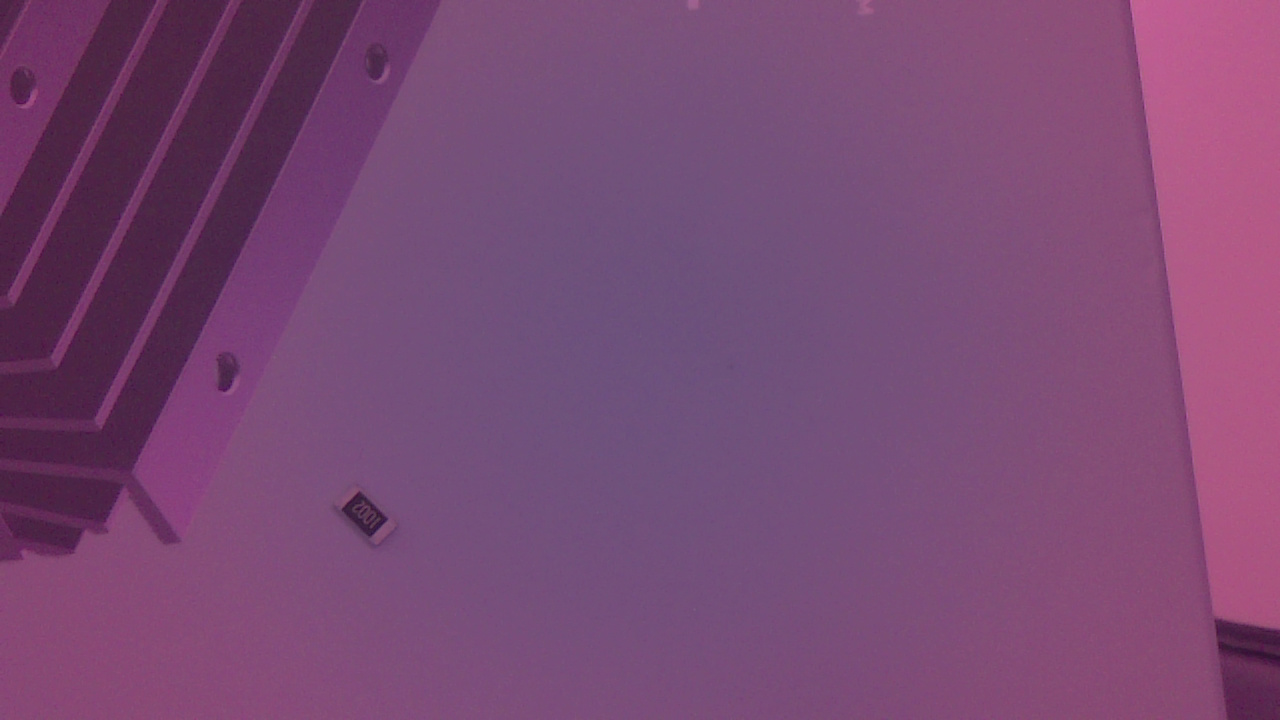Resistor: (333, 485, 406, 559)
